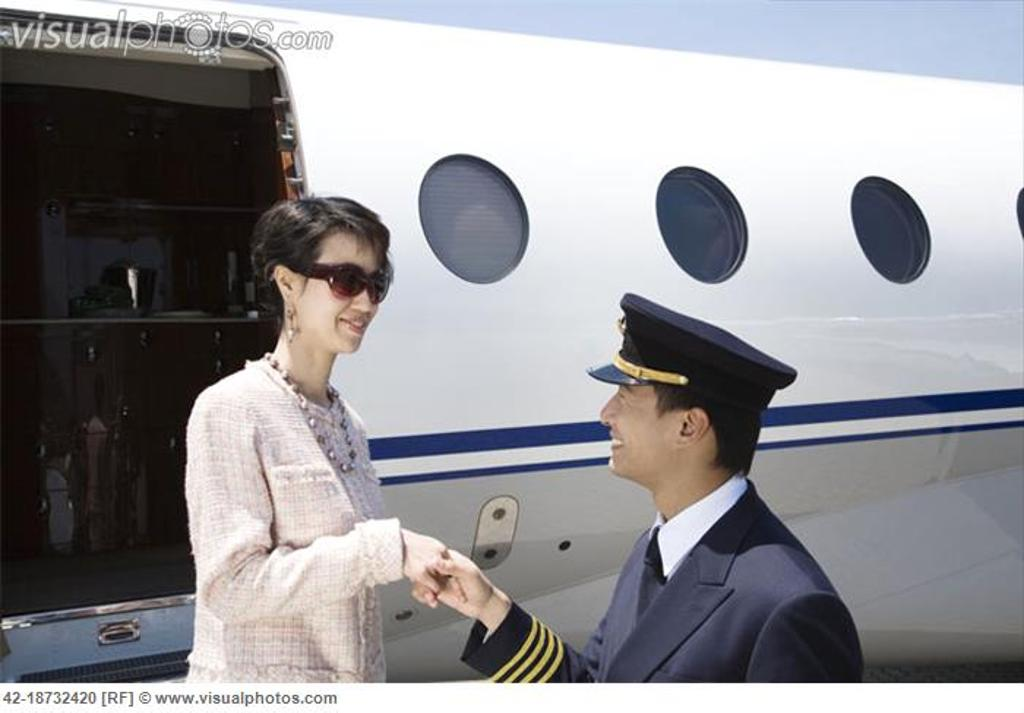face: (308, 232, 384, 356), (604, 358, 670, 474)
